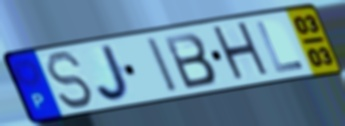B: (161, 31, 218, 91)
H: (209, 19, 275, 85)
I: (144, 35, 182, 95)
J: (94, 42, 134, 104)
L: (253, 20, 307, 75)
S: (43, 50, 97, 111)
